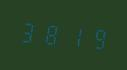eight: (40, 18, 61, 49)
nine: (84, 21, 105, 53)
one: (62, 19, 83, 51)
three: (18, 16, 39, 47)
